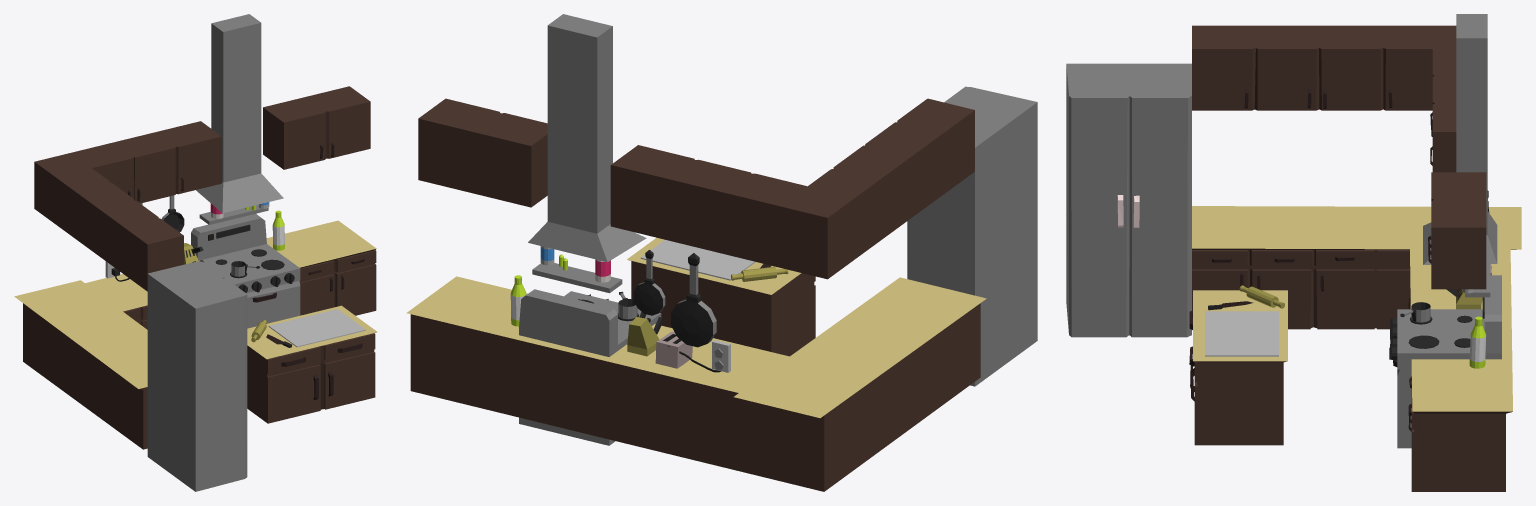
The model's file is Kitchen.fbx.
3 renders of one model, left to right at view 1: azimuth 30°, elevation 25°; view 2: azimuth 150°, elevation 25°; view 3: azimuth 270°, elevation 25°, orthographic. The views are drawn at different scales.
Parts seen in each view (by area): view 1: group536980032, group1913738476, group2142097961, group1348253054, group1000109285, group1142142446, group1955243732, group384672652, group900006215, group1999118543, group515853092, group1257611477 (+1 smaller); view 2: group1142142446, group1913738476, group536980032, group2142097961, group1000109285, group1955243732, group384672652, group1348253054, group900006215, group1722620986, group1999118543, group515853092 (+3 smaller); view 3: group536980032, group1913738476, group2142097961, group1142142446, group1348253054, group384672652, group1000109285, group900006215, group1999118543, group1955243732, group1257611477, group930845875.
Boxes of the visible parts, left/top/right/bottom form: group536980032: left=147, top=261, right=247, bottom=491; group1913738476: left=14, top=280, right=147, bottom=449; group2142097961: left=34, top=153, right=183, bottom=291; group1348253054: left=247, top=305, right=377, bottom=423; group1000109285: left=196, top=14, right=283, bottom=213; group1142142446: left=69, top=220, right=376, bottom=329; group1955243732: left=71, top=121, right=221, bottom=203; group384672652: left=263, top=86, right=370, bottom=169; group900006215: left=191, top=214, right=300, bottom=328; group1999118543: left=268, top=309, right=365, bottom=347; group515853092: left=199, top=204, right=268, bottom=224; group1257611477: left=272, top=210, right=284, bottom=250; group1142142446: left=406, top=276, right=805, bottom=471; group1913738476: left=734, top=277, right=986, bottom=491; group536980032: left=907, top=86, right=1037, bottom=386; group2142097961: left=780, top=98, right=974, bottom=279; group1000109285: left=528, top=14, right=646, bottom=262; group1955243732: left=610, top=145, right=806, bottom=267; group384672652: left=418, top=98, right=547, bottom=207; group1348253054: left=627, top=237, right=815, bottom=356; group900006215: left=519, top=289, right=661, bottom=445; group1722620986: left=671, top=253, right=716, bottom=347; group1999118543: left=640, top=240, right=755, bottom=280; group515853092: left=532, top=263, right=622, bottom=293; group536980032: left=1066, top=63, right=1191, bottom=337; group1913738476: left=1192, top=206, right=1521, bottom=329; group2142097961: left=1192, top=25, right=1456, bottom=110; group1142142446: left=1410, top=239, right=1512, bottom=491; group1348253054: left=1193, top=290, right=1287, bottom=445; group384672652: left=1431, top=172, right=1486, bottom=289; group1000109285: left=1423, top=14, right=1497, bottom=264; group900006215: left=1397, top=275, right=1501, bottom=448; group1999118543: left=1205, top=311, right=1278, bottom=356; group1955243732: left=1432, top=49, right=1456, bottom=172; group1257611477: left=1469, top=316, right=1486, bottom=368; group930845875: left=1239, top=285, right=1284, bottom=308.
Bounding box in the file's own units: 187 × 169 × 174.
